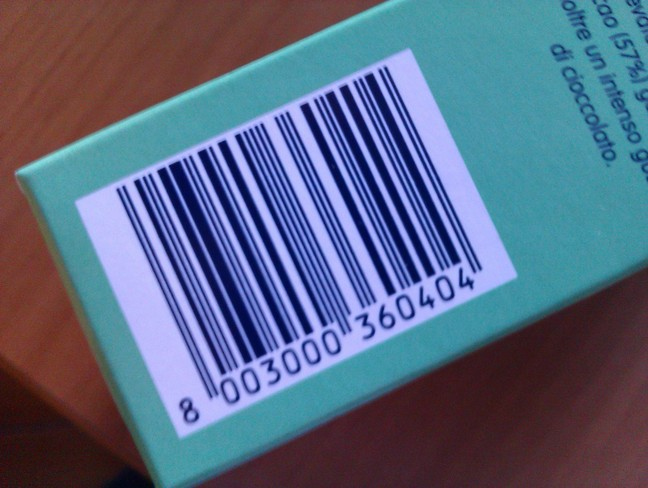barcode: (45, 48, 535, 435)
